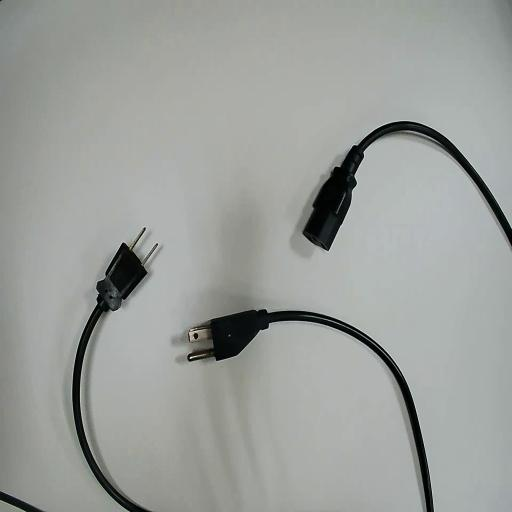wire: (189, 310, 432, 511), (303, 122, 511, 248), (73, 244, 147, 511)
